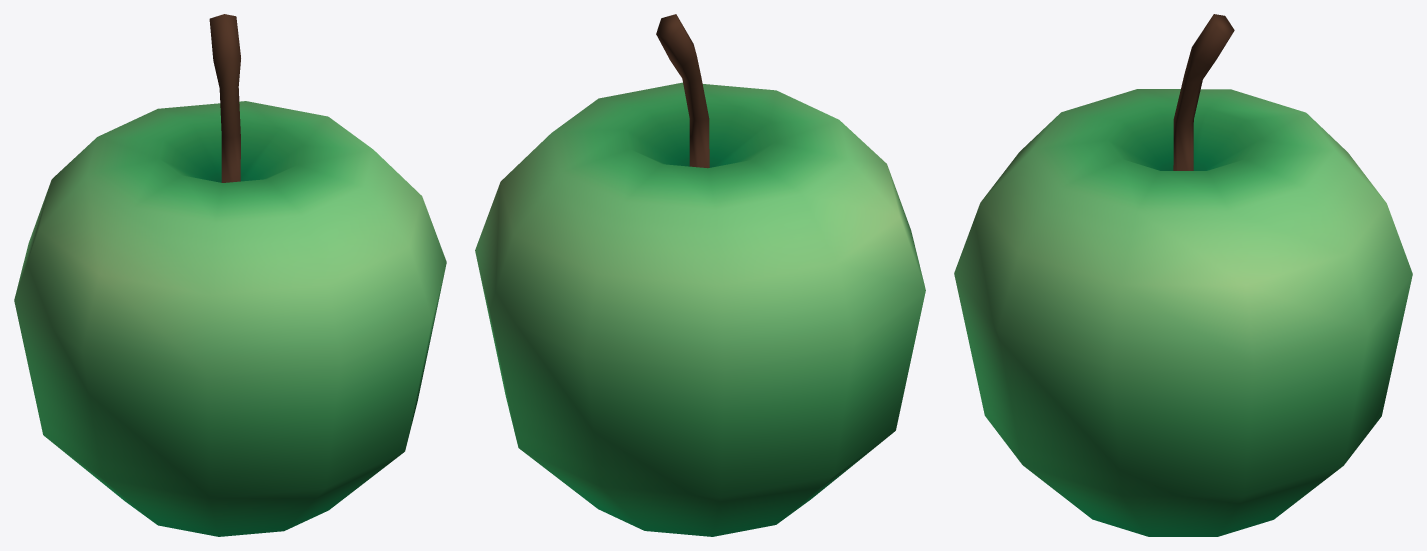
Rendered from CR_caf_Apple_002.FBX.
3 renders of one model, left to right at view 1: azimuth 30°, elevation 25°; view 2: azimuth 150°, elevation 25°; view 3: azimuth 270°, elevation 25°, orthographic. The views are drawn at different scales.
Visible parts, largest first — view 1: CR_caf_Apple_002; view 2: CR_caf_Apple_002; view 3: CR_caf_Apple_002.
Boxes of the visible parts, x1,y1,x2,y2 form: CR_caf_Apple_002: (14, 14, 446, 536); CR_caf_Apple_002: (475, 14, 925, 536); CR_caf_Apple_002: (954, 14, 1412, 536).
Bounding box in the file's own units: 11.08 × 11.65 × 14.04.
